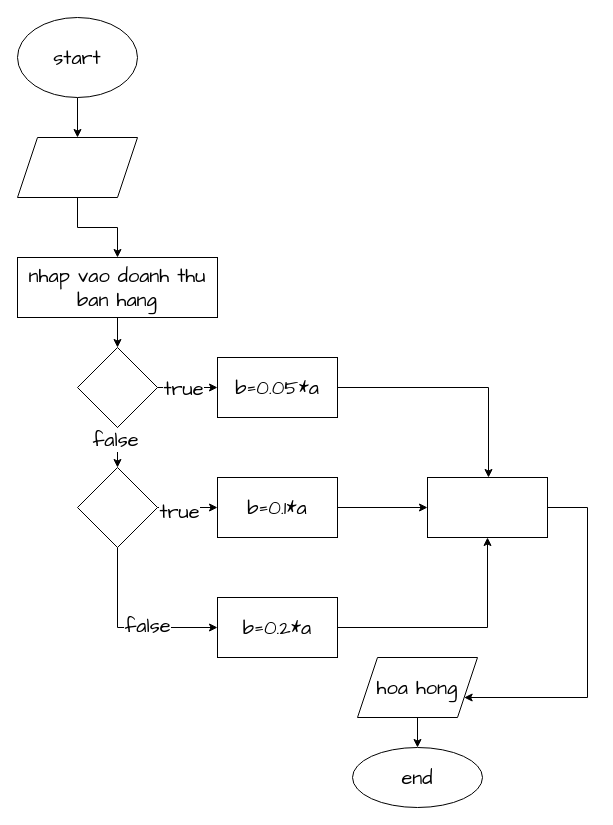
Image size: 613x825. Some labels were removed from this diagram. Each missing label, with the box of its shape:
a,b: (16, 136, 138, 198)
a<100tr: (76, 346, 158, 428)
a<300tr: (76, 466, 158, 548)
hoa hong=b: (426, 476, 548, 538)
